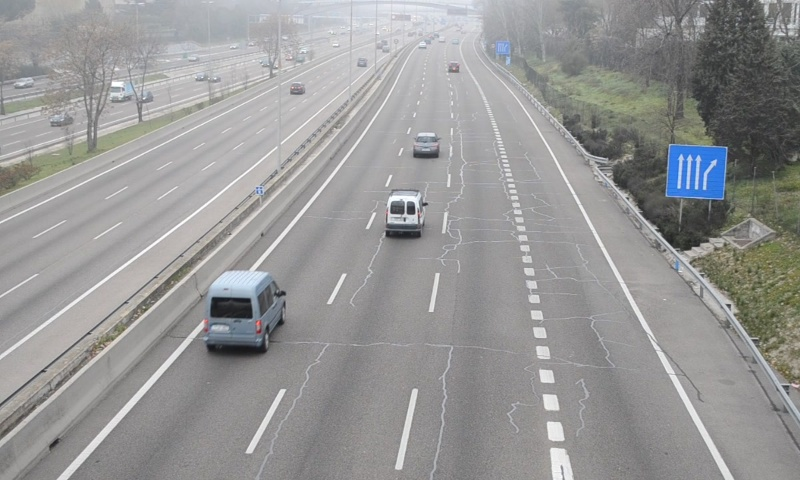car: (412, 132, 441, 157)
van: (206, 272, 285, 348), (384, 191, 425, 236)
